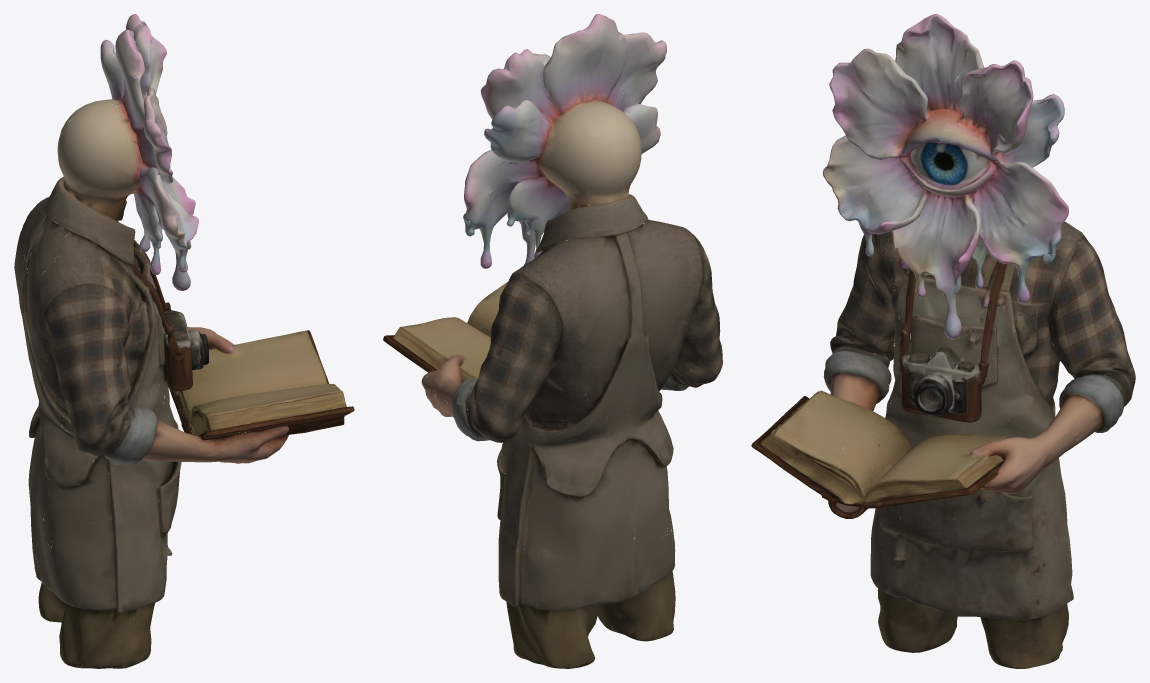
File: auggie.glb
The picture shows the model from 3 angles, left to right: view 1: azimuth 30°, elevation 25°; view 2: azimuth 150°, elevation 25°; view 3: azimuth 270°, elevation 25°; orthographic projection. The views are drawn at different scales.
Parts seen in each view (by area): view 1: tripo_node_310b853e-74e3-40e3-8186-6bc978a0871c; view 2: tripo_node_310b853e-74e3-40e3-8186-6bc978a0871c; view 3: tripo_node_310b853e-74e3-40e3-8186-6bc978a0871c.
Boxes of the visible parts, bbox=[...] form: tripo_node_310b853e-74e3-40e3-8186-6bc978a0871c: bbox=[14, 14, 354, 668]; tripo_node_310b853e-74e3-40e3-8186-6bc978a0871c: bbox=[383, 14, 722, 668]; tripo_node_310b853e-74e3-40e3-8186-6bc978a0871c: bbox=[751, 14, 1135, 668].
Size of the model in its own units: 0.5036 by 0.9999 by 0.5475.
1 material, 1 textured.
